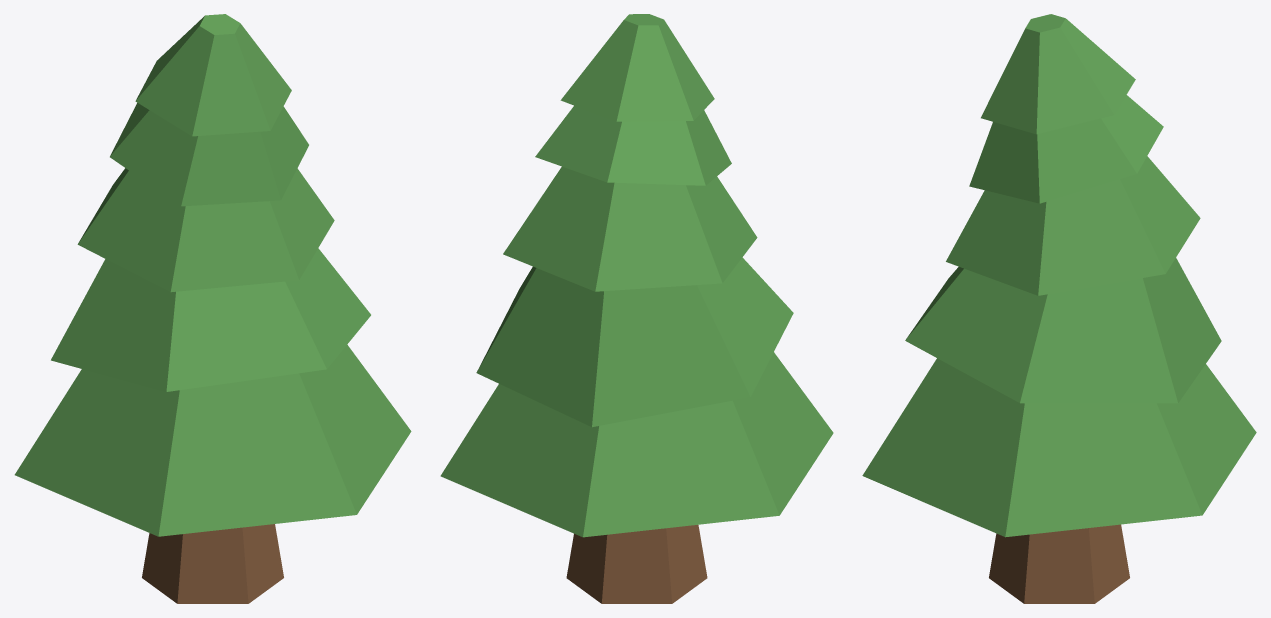
File: tree_city_oldenburg2.fbx
3 renders of one model, left to right at view 1: azimuth 30°, elevation 25°; view 2: azimuth 150°, elevation 25°; view 3: azimuth 270°, elevation 25°, orthographic.
Visible parts, largest first — view 1: Cylinder; view 2: Cylinder; view 3: Cylinder.
Part boxes in pixels (left/top/right/bottom): Cylinder: left=14, top=14, right=411, bottom=603; Cylinder: left=440, top=14, right=833, bottom=603; Cylinder: left=862, top=14, right=1256, bottom=603.
Bounding box in the file's own units: 214 × 334 × 214.
